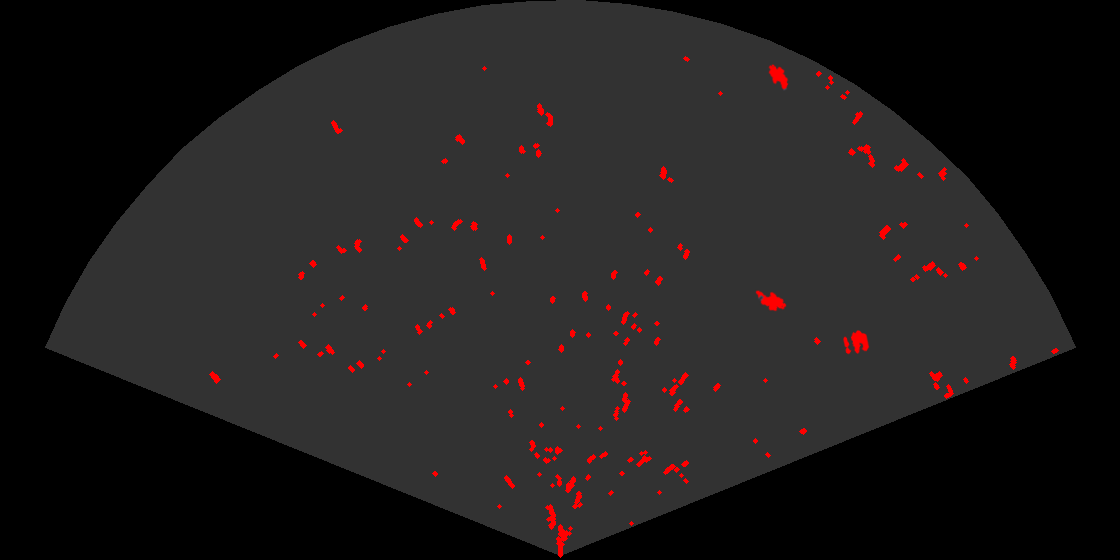AUV: (754, 289, 788, 313), (767, 63, 790, 91)
ball: (842, 329, 871, 356)
